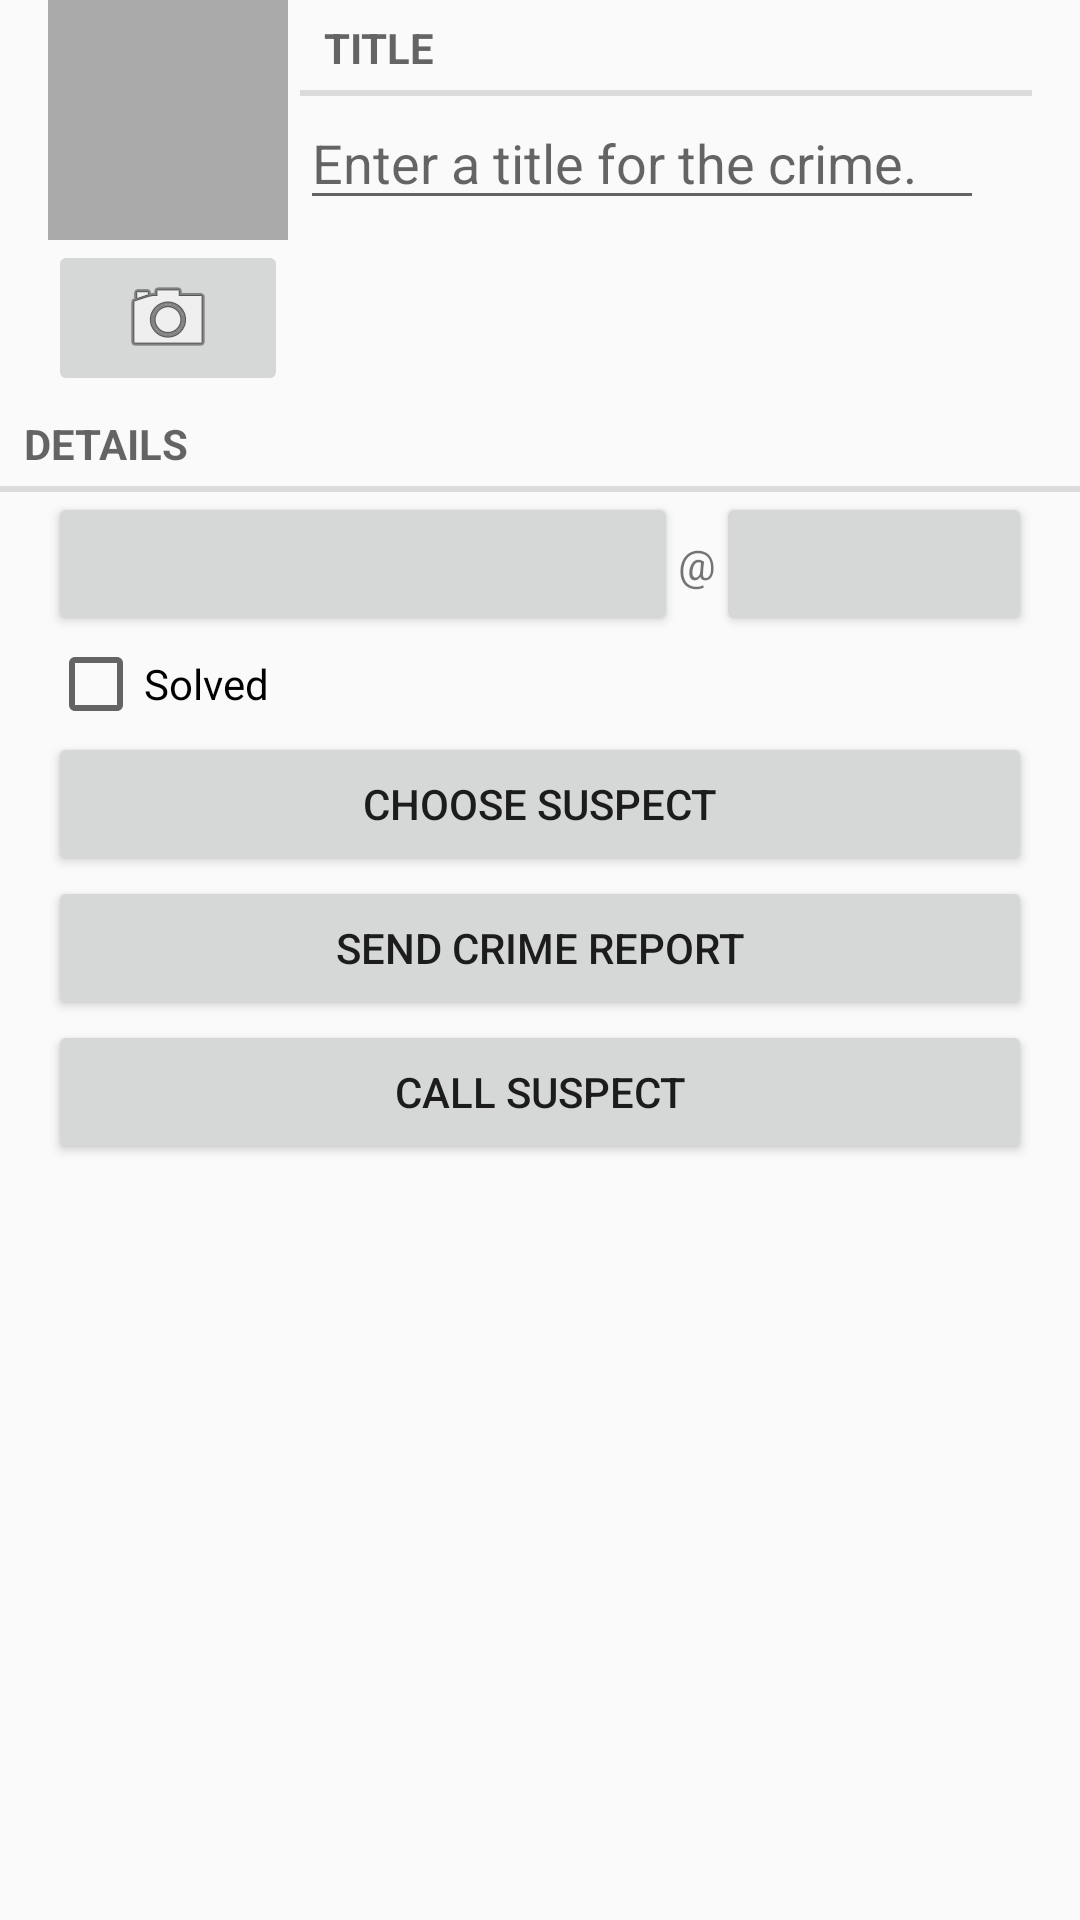

Where icons sit on this 1080px x 1920px app screen, as (x1,y1,x2,y2):
Take photo of crime scene: (60,258,276,378)
